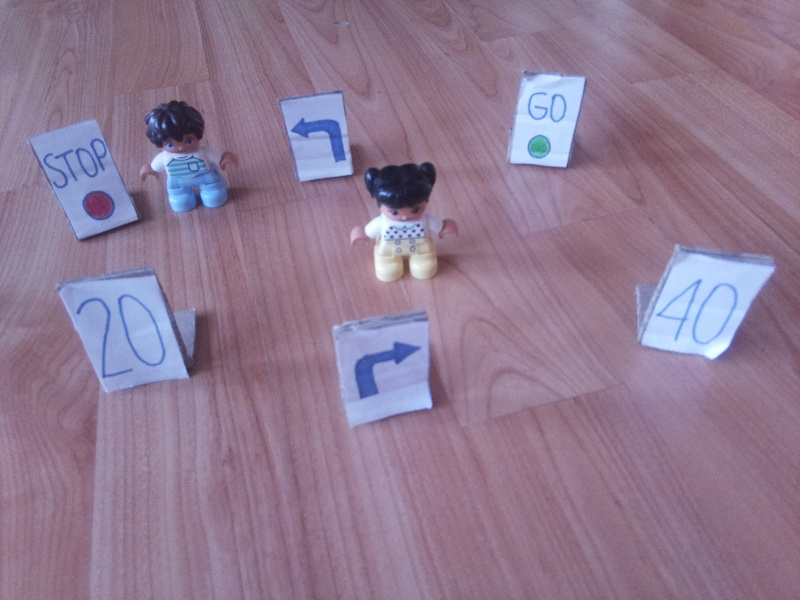20: (72, 291, 170, 374)
40: (658, 276, 739, 346)
go: (520, 88, 565, 161)
person: (353, 167, 464, 288), (132, 102, 245, 209)
stop: (42, 141, 125, 215)
turn left: (285, 110, 349, 163)
turn right: (343, 334, 423, 408)
